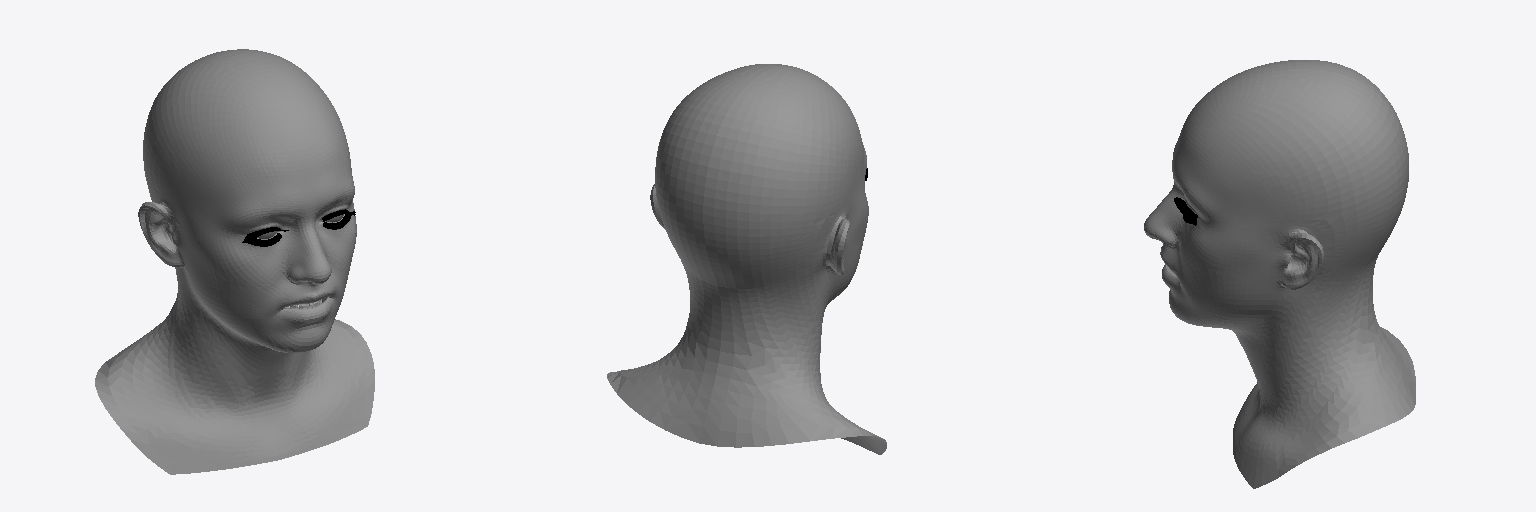
File: mouthShrugUpper.obj
The picture shows the model from 3 angles: view 1: azimuth 30°, elevation 25°; view 2: azimuth 150°, elevation 25°; view 3: azimuth 270°, elevation 25°; orthographic projection.
Bounding box in the file's own units: 24.83 × 33.81 × 22.32.